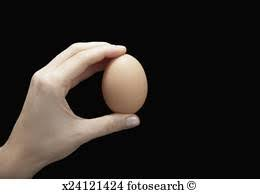egg: (102, 52, 147, 114)
